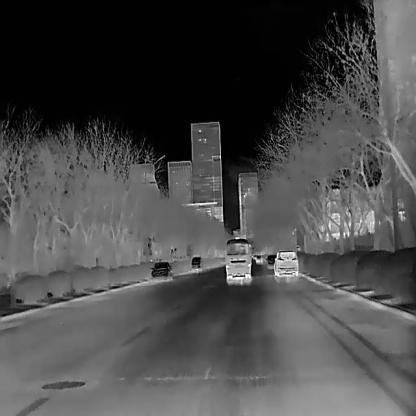bus: (224, 237, 252, 280)
car: (273, 249, 297, 276), (149, 261, 171, 279), (190, 255, 201, 271), (265, 254, 276, 268), (254, 254, 263, 262)
